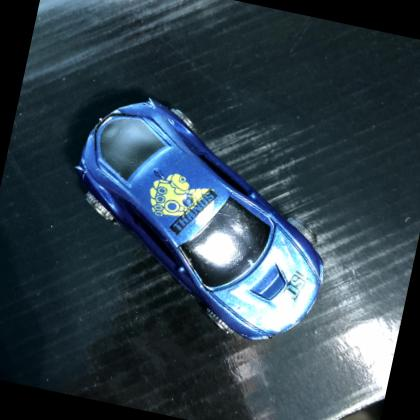Car: (40, 80, 356, 360)
